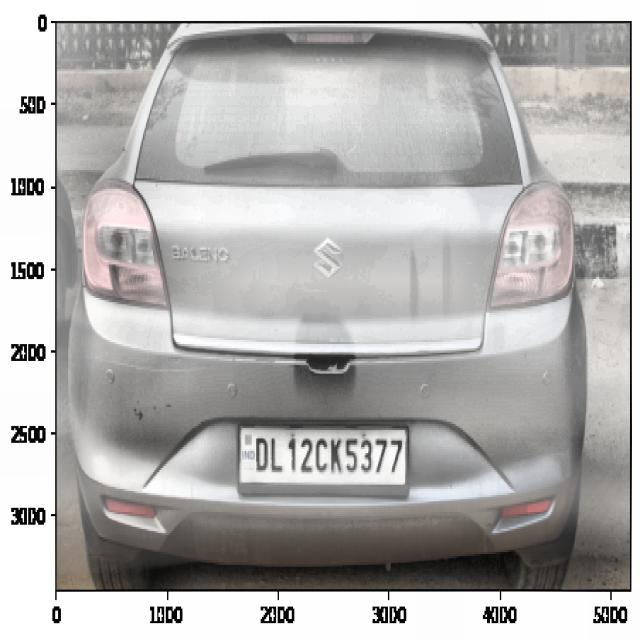license_plate: (250, 427, 407, 483)
